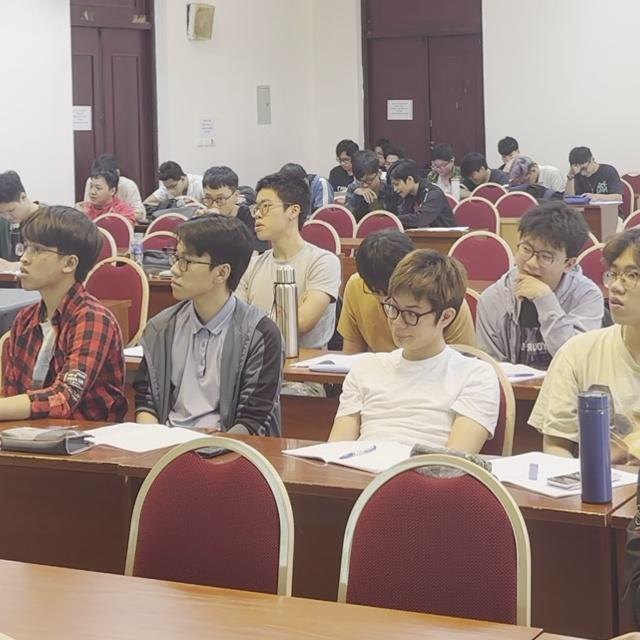Looking away: (351, 253, 425, 316), (549, 141, 607, 188), (2, 154, 31, 240), (328, 130, 365, 197), (460, 147, 496, 211), (389, 159, 427, 218), (160, 153, 195, 216), (347, 148, 381, 208), (506, 154, 541, 198), (426, 147, 459, 191), (491, 126, 520, 169)
Looking forward: (139, 210, 241, 325), (32, 207, 111, 352), (238, 175, 320, 291), (587, 227, 640, 372), (369, 266, 445, 350), (500, 193, 565, 290), (76, 150, 128, 207), (201, 164, 240, 223)
